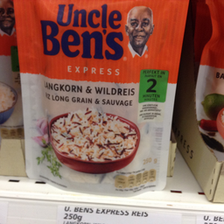rice: (13, 1, 189, 197)
